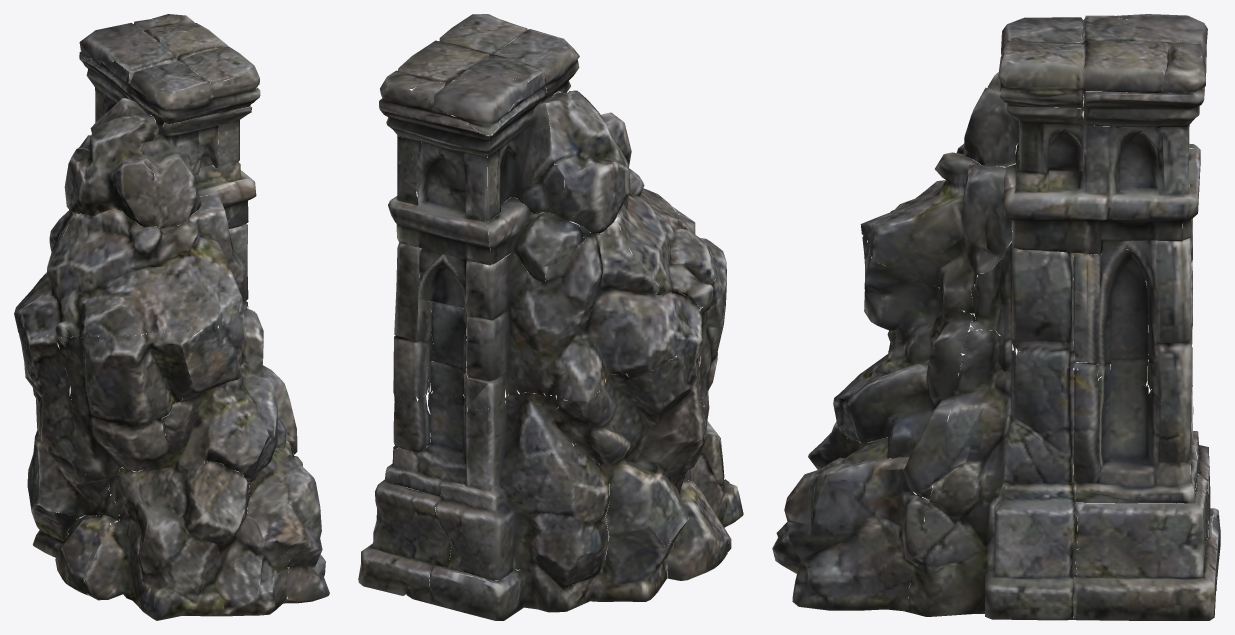
The model's file is RockToWallTransition.glb.
3 renders of one model, left to right at view 1: azimuth 30°, elevation 25°; view 2: azimuth 150°, elevation 25°; view 3: azimuth 270°, elevation 25°, orthographic. The views are drawn at different scales.
Parts seen in each view (by area): view 1: Eldoria_MultiPiece_Group_02; view 2: Eldoria_MultiPiece_Group_02; view 3: Eldoria_MultiPiece_Group_02.
Part boxes in pixels (left/top/right/bottom): Eldoria_MultiPiece_Group_02: left=14, top=14, right=329, bottom=620; Eldoria_MultiPiece_Group_02: left=358, top=14, right=743, bottom=620; Eldoria_MultiPiece_Group_02: left=772, top=14, right=1220, bottom=620.
Size of the model in its own units: 0.1729 by 0.3244 by 0.2386.
1 material, 1 textured.
